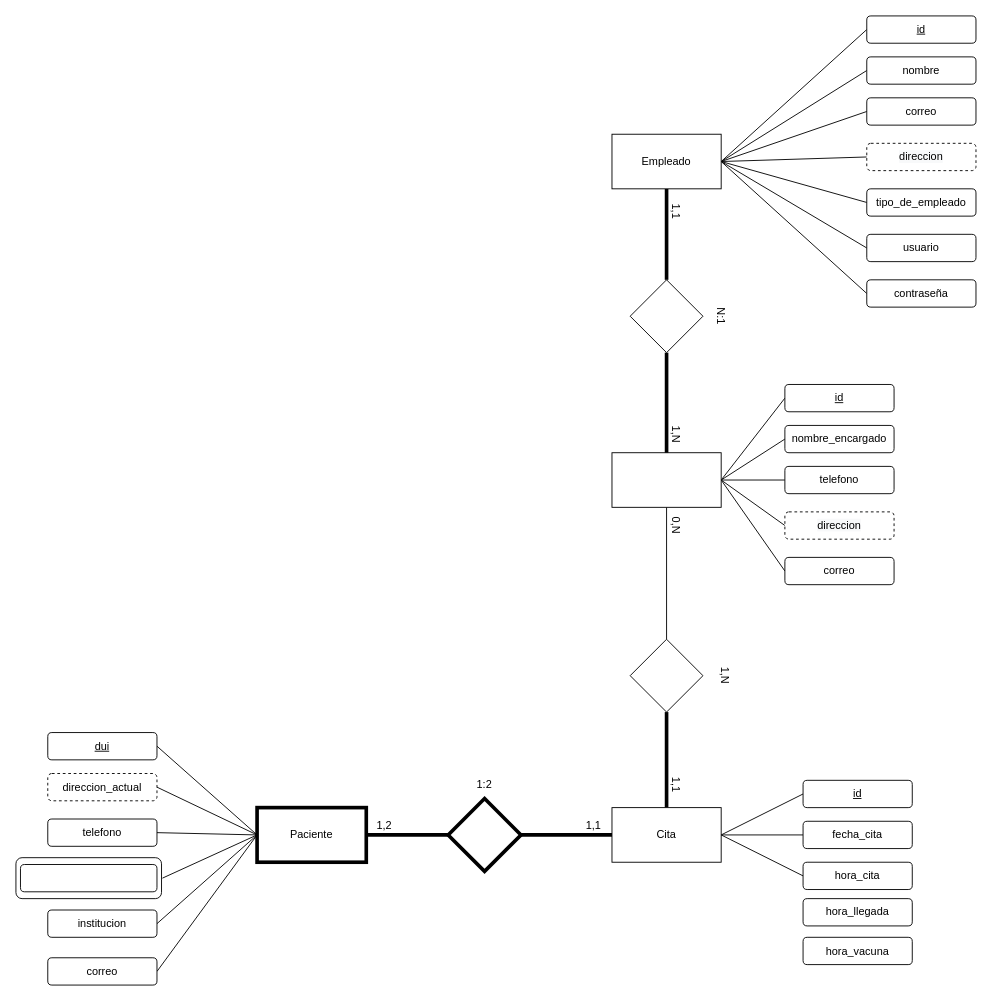
Image size: 992x1001. Some labels were removed from this diagram. Each missing label, with the centre of its shape:
"Cabina" belongs at point 666,479.
"emfermedades_cronicas" belongs at point 88,878.
"pertenece" belongs at point 666,316.
"pertenecen" belongs at point 484,834.
"reserva" belongs at point 666,675.
